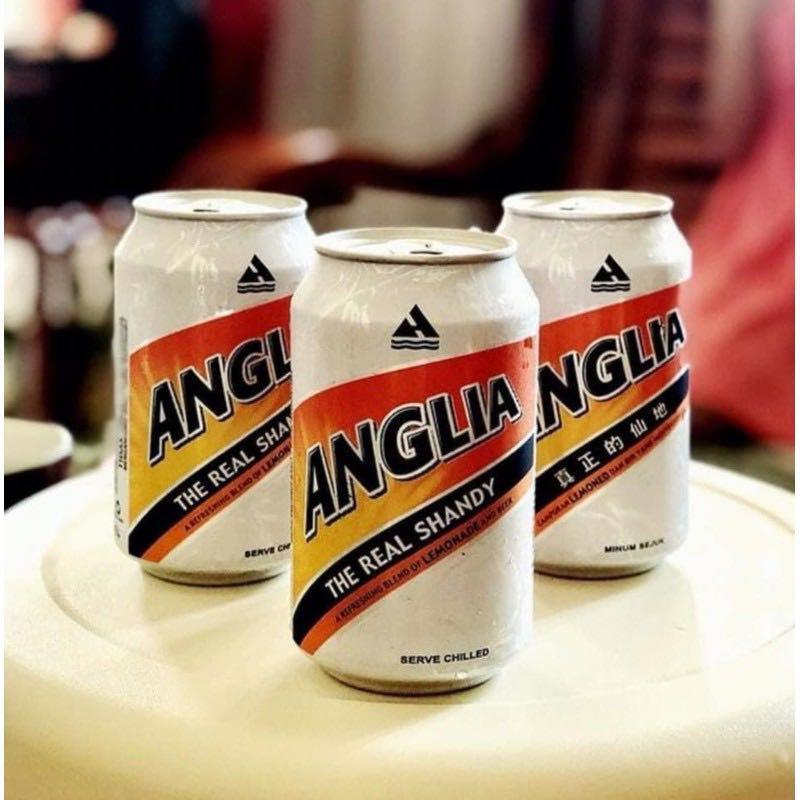metal: (289, 224, 534, 696), (499, 184, 694, 580), (109, 189, 299, 586)
